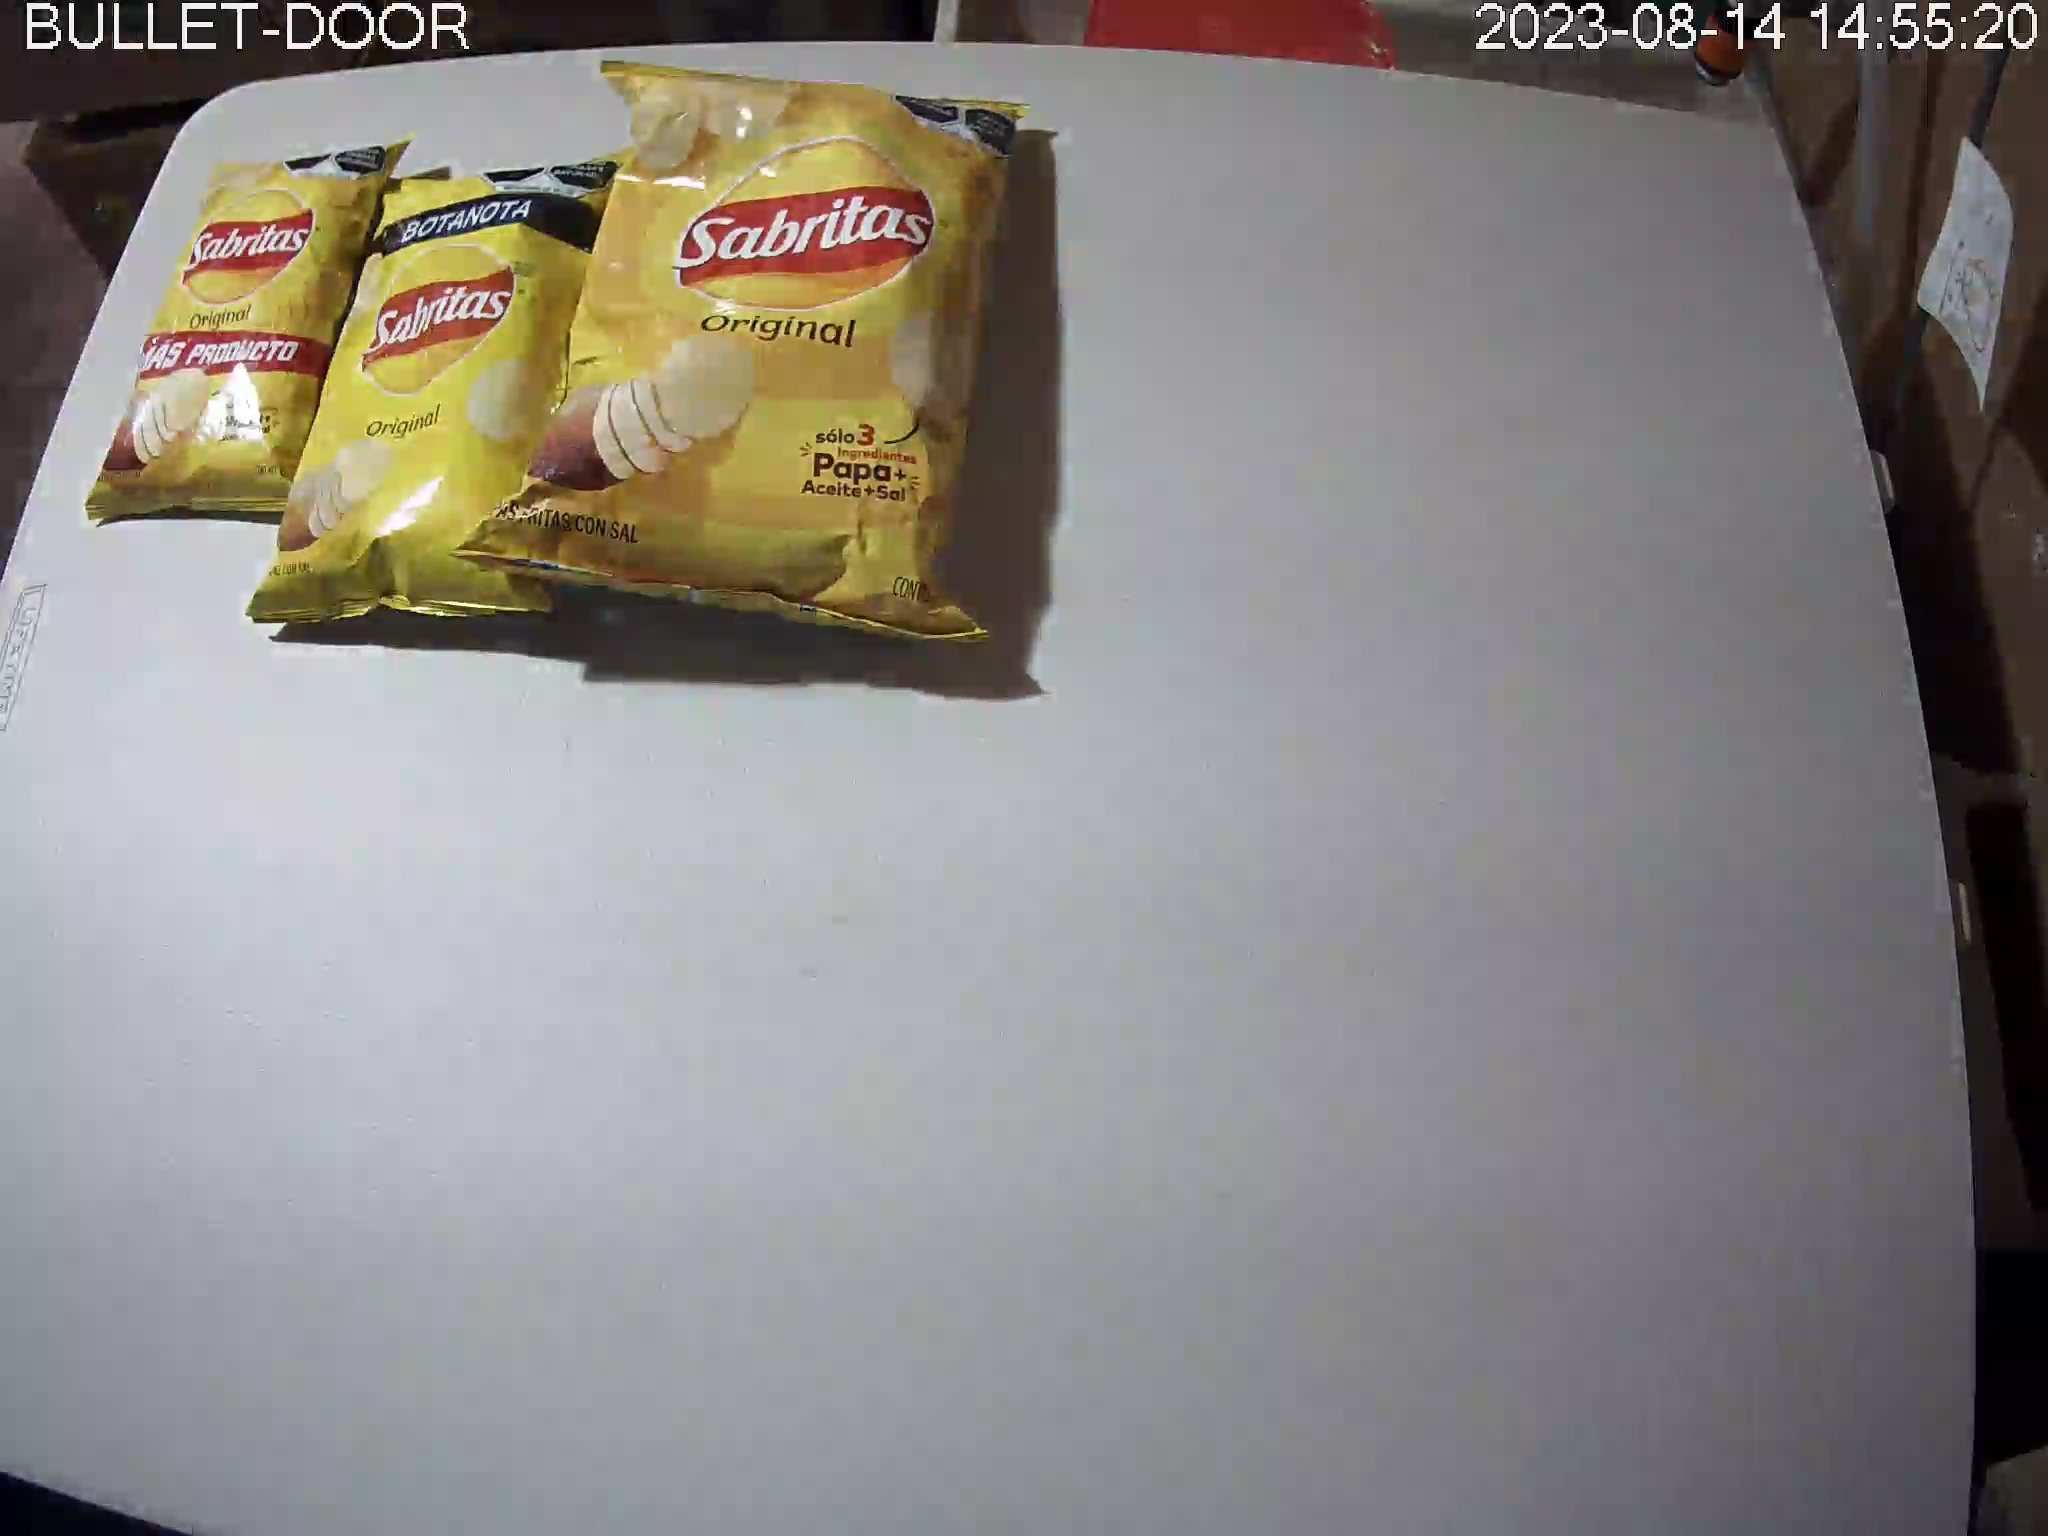Sabritas_160_F: (448, 60, 1034, 649)
Sabritas_45_F: (85, 129, 414, 523)
Sabritas_64_F: (247, 145, 632, 623)
